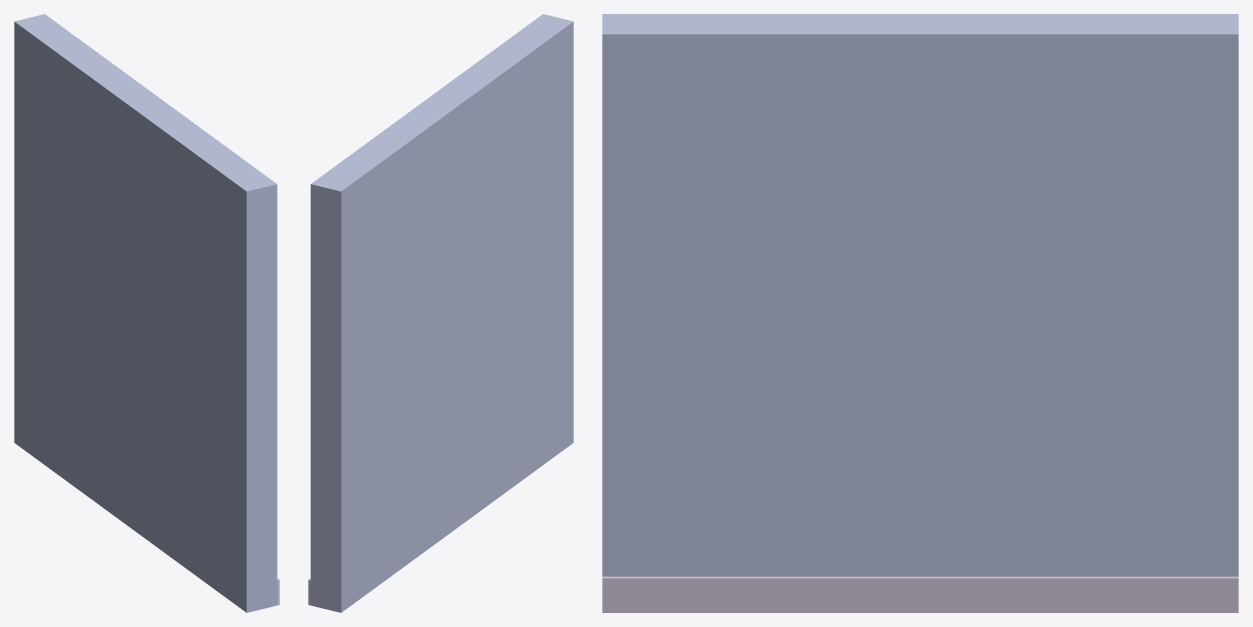
Rendered from Wall_2.fbx.
3 renders of one model, left to right at view 1: azimuth 30°, elevation 25°; view 2: azimuth 150°, elevation 25°; view 3: azimuth 270°, elevation 25°, orthographic. The views are drawn at different scales.
Parts seen in each view (by area): view 1: WallWithSkirt; view 2: WallWithSkirt; view 3: WallWithSkirt.
Part boxes in pixels (bbox=[...]): WallWithSkirt: bbox=[14, 14, 279, 612]; WallWithSkirt: bbox=[308, 14, 573, 612]; WallWithSkirt: bbox=[602, 14, 1238, 612].
Bounding box in the file's own units: 16.36 × 200 × 200.
